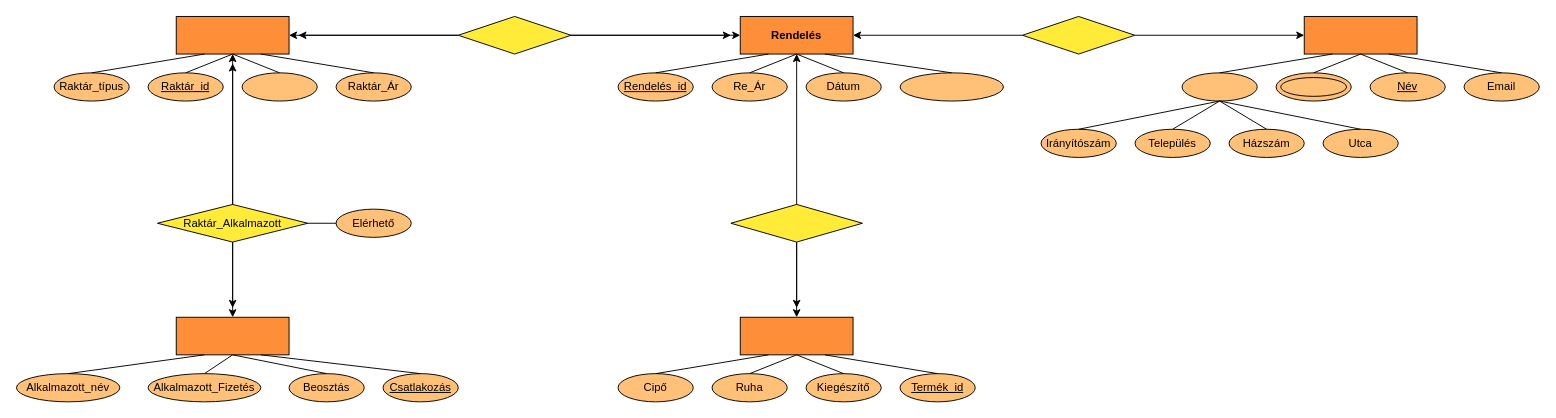
Image size: 1556x418. Some labels were removed from this diagram. The box of each missing label's shape, as (x1, y1, x2, y2) in pixels:
( Cím ): (1181, 72, 1257, 101)
Alkalmazott: (175, 316, 289, 355)
Ra_Darabszám: (241, 72, 317, 101)
Raktár: (175, 16, 289, 54)
Raktár_Rendelés: (457, 16, 571, 54)
Rendelés_Fizetés: (899, 72, 1003, 101)
Rendelés_Termék: (730, 204, 862, 242)
Rendelés_Vevő: (1021, 16, 1135, 54)
Telefonszám: (1280, 77, 1347, 96)
Termék: (739, 316, 853, 355)
Vevő: (1303, 16, 1417, 54)
